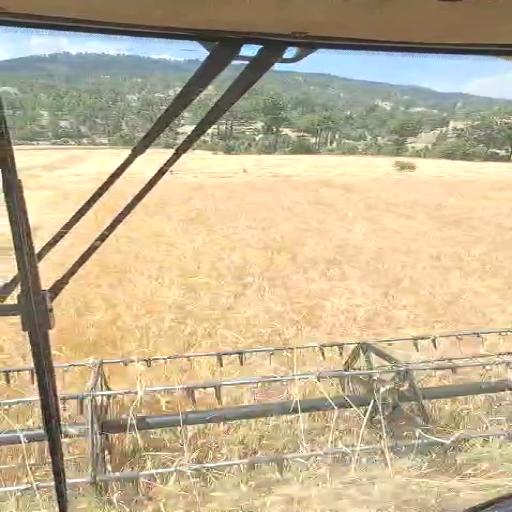bugday: (56, 154, 511, 354), (44, 154, 159, 280), (20, 150, 119, 241)
